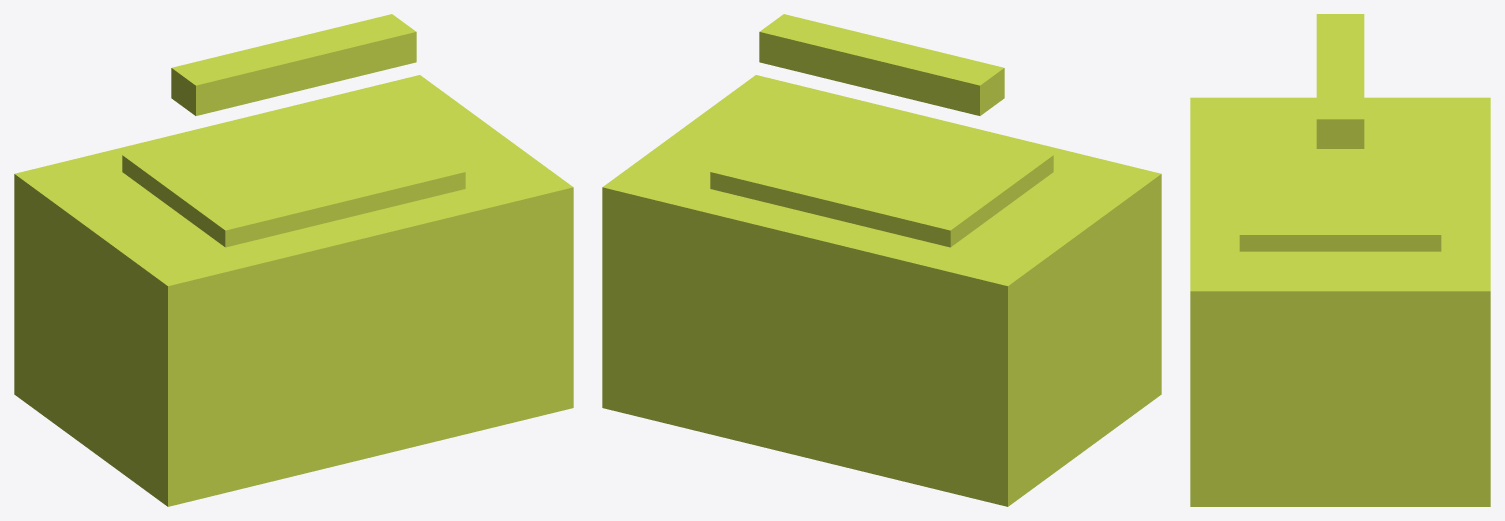
3 renders of one model, left to right at view 1: azimuth 30°, elevation 25°; view 2: azimuth 150°, elevation 25°; view 3: azimuth 270°, elevation 25°, orthographic. The views are drawn at different scales.
Visible parts, largest first — view 1: Beacon Body, Beacon Crown, Signal Bar; view 2: Beacon Body, Beacon Crown, Signal Bar; view 3: Beacon Body, Beacon Crown, Signal Bar.
Part boxes in pixels (x1=…): Beacon Body: x1=14, y1=75, x2=573, y2=506; Beacon Crown: x1=122, y1=96, x2=465, y2=247; Signal Bar: x1=171, y1=14, x2=416, y2=115; Beacon Body: x1=602, y1=75, x2=1161, y2=506; Beacon Crown: x1=710, y1=96, x2=1053, y2=247; Signal Bar: x1=759, y1=14, x2=1004, y2=115; Beacon Body: x1=1190, y1=97, x2=1490, y2=506; Beacon Crown: x1=1239, y1=120, x2=1441, y2=251; Signal Bar: x1=1316, y1=14, x2=1364, y2=148.
Bounding box in the file's own units: 2.5 × 2.07 × 1.64.
